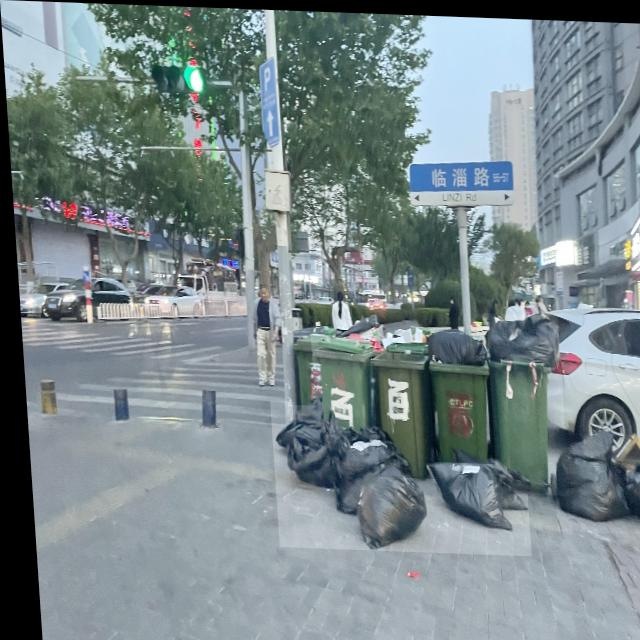garbage: (265, 399, 524, 552), (546, 428, 640, 531)
garbage_bin: (366, 346, 429, 476), (306, 332, 371, 429), (285, 329, 319, 404)
overflow: (479, 309, 563, 492), (421, 325, 489, 461)
